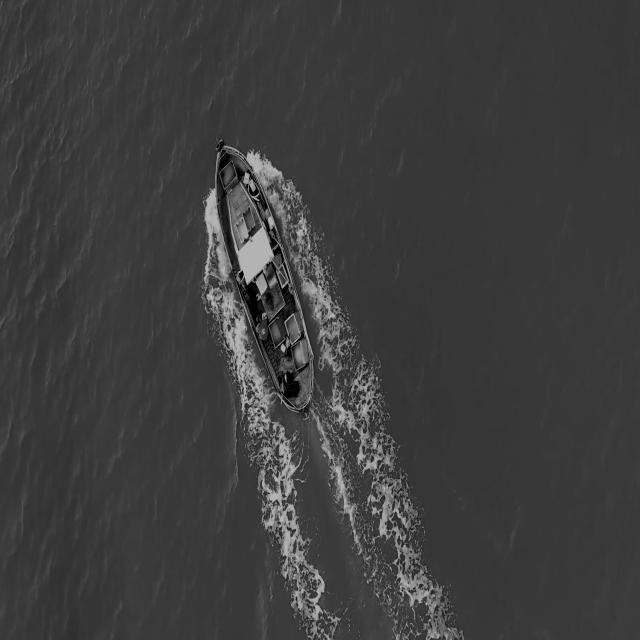ship: (214, 137, 319, 418)
